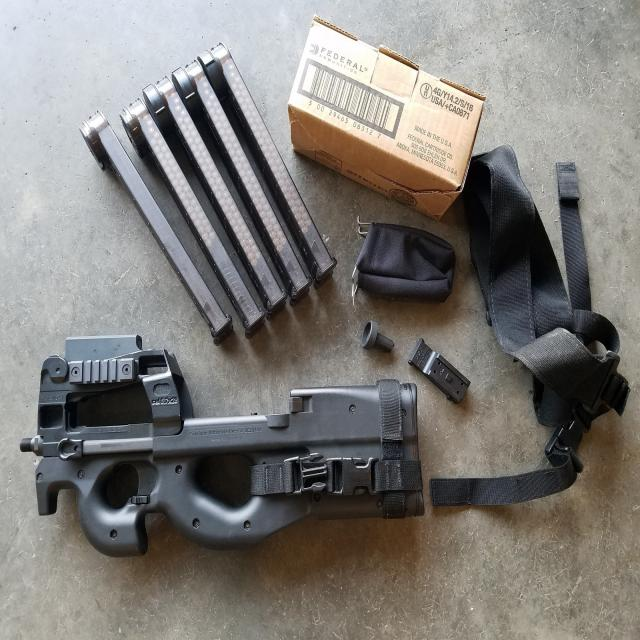SMG: (20, 334, 428, 559)
